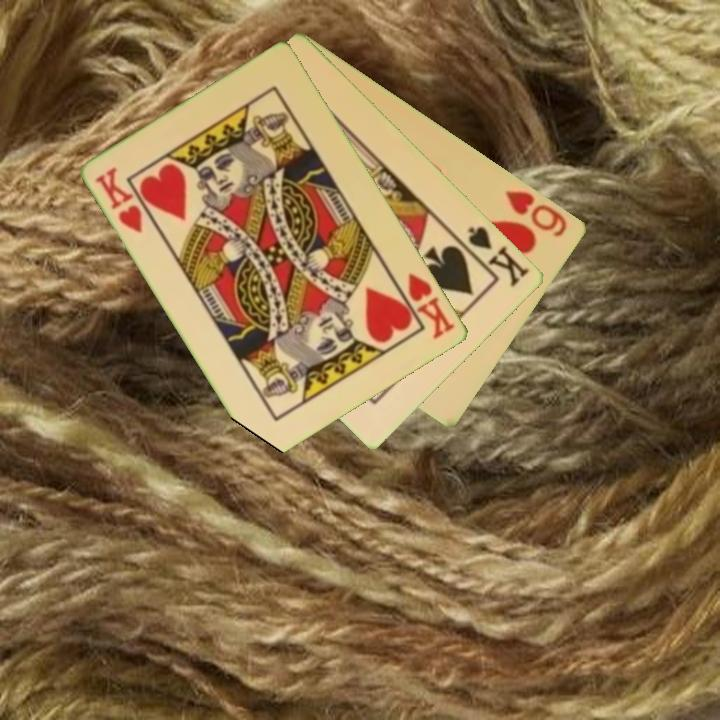6h: (502, 186, 571, 240)
Kh: (391, 269, 458, 342), (92, 163, 146, 236)
Ks: (456, 222, 533, 290)
